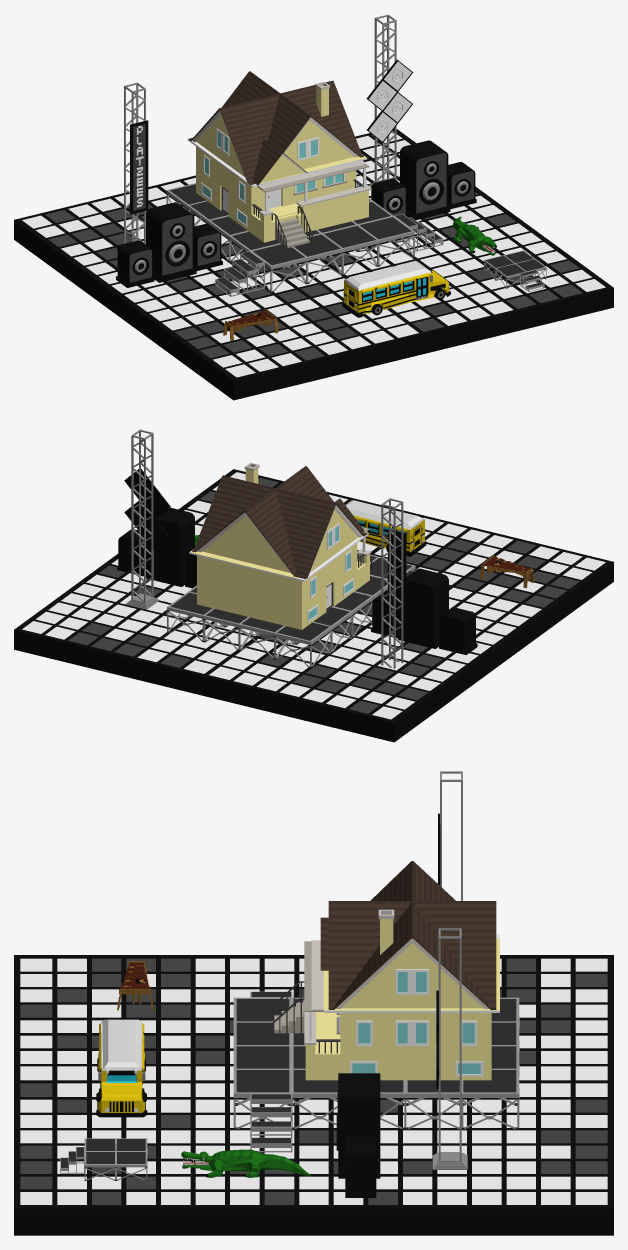
3 renders of one model, top to bottom at view 1: azimuth 30°, elevation 25°; view 2: azimuth 150°, elevation 25°; view 3: azimuth 270°, elevation 25°, orthographic. The views are drawn at different scales.
Parts seen in each view (by area): view 1: Cube.008, Cube.1555, VEHICLES_SCHOOL_BUS, ANIMAL_COCODRILO, OBJRANDOM_MARIMBA; view 2: Cube.008, Cube.1555, VEHICLES_SCHOOL_BUS, OBJRANDOM_MARIMBA; view 3: Cube.008, Cube.1555, VEHICLES_SCHOOL_BUS, ANIMAL_COCODRILO, OBJRANDOM_MARIMBA.
Part boxes in pixels (x1,y1,x2,y2): Cube.008: (14,14,613,400); Cube.1555: (187,71,371,249); VEHICLES_SCHOOL_BUS: (342,261,450,317); ANIMAL_COCODRILO: (453,216,496,255); OBJRANDOM_MARIMBA: (223,309,278,340); Cube.008: (14,429,613,742); Cube.1555: (189,462,372,629); VEHICLES_SCHOOL_BUS: (345,500,426,556); OBJRANDOM_MARIMBA: (480,555,534,588); Cube.008: (14,771,613,1235); Cube.1555: (272,861,499,1080); VEHICLES_SCHOOL_BUS: (96,1019,147,1117); ANIMAL_COCODRILO: (181,1149,310,1177); OBJRANDOM_MARIMBA: (117,961,153,1010).
Size of the model in its own units: 4000 by 1972 by 4000.
49 materials, 1 textured.
